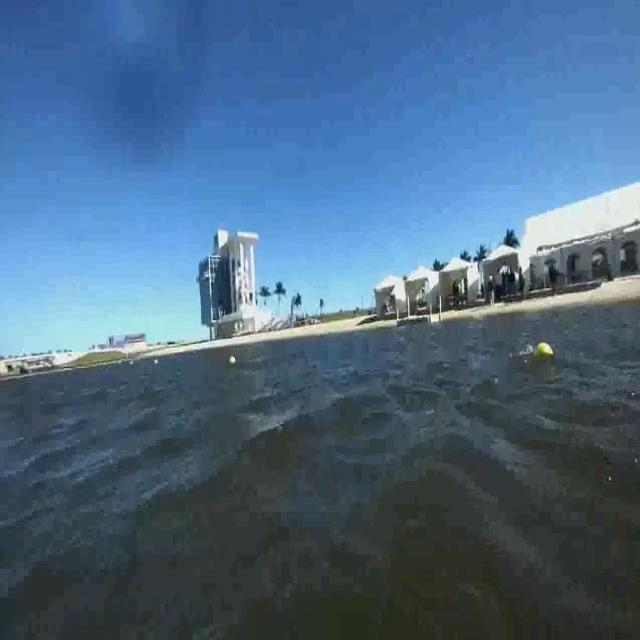yellow-buoy: (535, 344, 554, 357)
